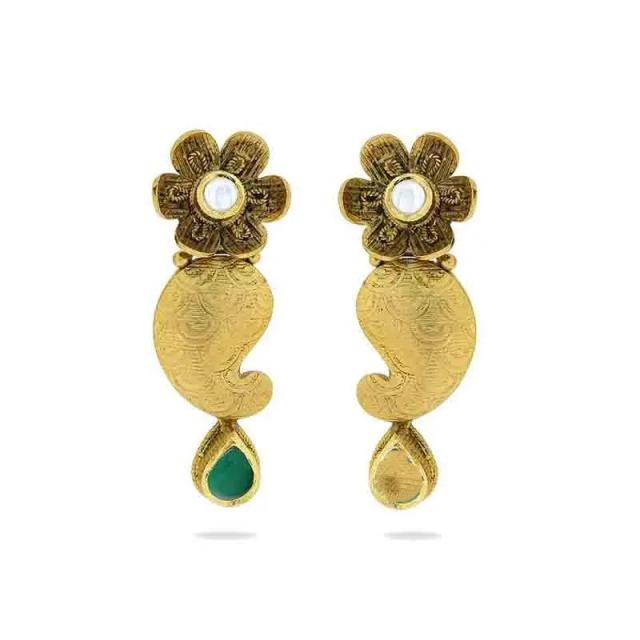missing gem: (375, 444, 422, 503)
